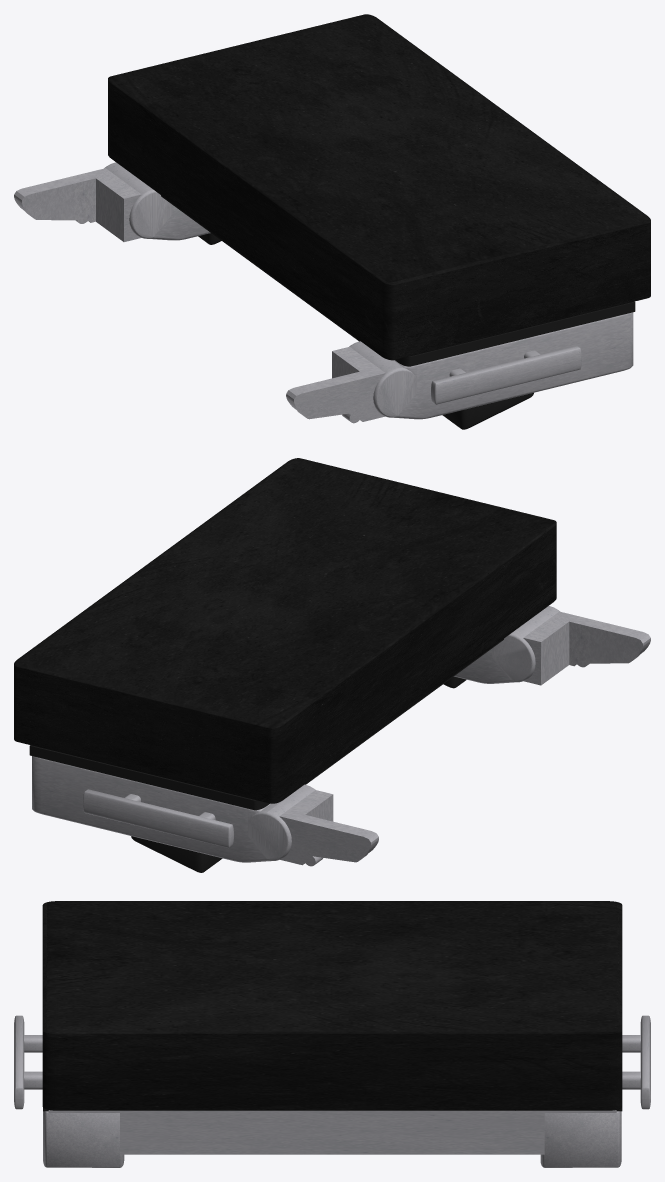
The model's file is dual_joint_head_plate.fbx.
The picture shows the model from 3 angles, top to bottom: view 1: azimuth 30°, elevation 25°; view 2: azimuth 150°, elevation 25°; view 3: azimuth 270°, elevation 25°; orthographic projection.
Parts seen in each view (by area): view 1: head_plate_pad, dual_joint_head_plate_underside_L, head_plate_hook_R, head_plate_hook_L, head_plate_rail_L, dual_joint_head_plate_underside_R, head_plate_big, head_plate_button_L; view 2: head_plate_pad, dual_joint_head_plate_underside_R, head_plate_hook_L, head_plate_hook_R, head_plate_rail_R, dual_joint_head_plate_underside_L, head_plate_big, head_plate_button_R; view 3: head_plate_pad, head_plate_underside_back, dual_joint_head_plate_underside_R, dual_joint_head_plate_underside_L, head_plate_rail_L, head_plate_rail_R.
Part boxes in pixels (<box>): head_plate_pad: <box>108,14,650,360</box>; dual_joint_head_plate_underside_L: <box>349,312,633,419</box>; head_plate_hook_R: <box>14,168,141,241</box>; head_plate_hook_L: <box>286,347,385,423</box>; head_plate_rail_L: <box>431,345,581,404</box>; dual_joint_head_plate_underside_R: <box>104,162,210,240</box>; head_plate_big: <box>395,301,635,366</box>; head_plate_button_L: <box>442,393,533,429</box>; head_plate_pad: <box>14,458,556,803</box>; dual_joint_head_plate_underside_R: <box>32,756,315,862</box>; head_plate_hook_L: <box>523,611,650,685</box>; head_plate_hook_R: <box>279,790,378,866</box>; head_plate_rail_R: <box>83,789,233,847</box>; dual_joint_head_plate_underside_L: <box>454,606,559,683</box>; head_plate_big: <box>29,745,269,810</box>; head_plate_button_R: <box>131,836,222,872</box>; head_plate_pad: <box>42,901,622,1110</box>; head_plate_underside_back: <box>48,1110,616,1154</box>; dual_joint_head_plate_underside_R: <box>540,1111,621,1167</box>; dual_joint_head_plate_underside_L: <box>43,1111,124,1167</box>; head_plate_rail_L: <box>14,1015,24,1109</box>; head_plate_rail_R: <box>640,1015,650,1109</box>.
Bounding box in the file's own units: 0.3823 × 0.1721 × 0.5771.
3 materials, 3 textured.
